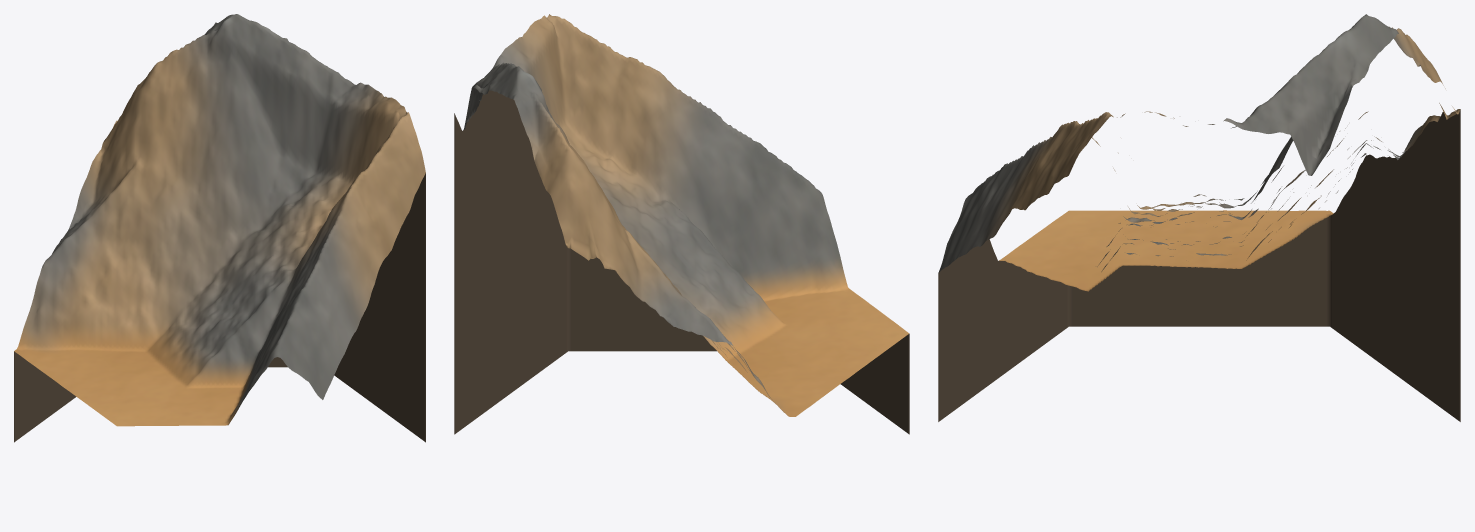
3 renders of one model, left to right at view 1: azimuth 30°, elevation 25°; view 2: azimuth 150°, elevation 25°; view 3: azimuth 270°, elevation 25°, orthographic. The views are drawn at different scales.
Visible parts, largest first — view 1: terrain, hex_side_cut; view 2: terrain, hex_side_cut; view 3: hex_side_cut, terrain.
Boxes of the visible parts, <box> form: terrain: <box>14,14,425,426</box>; hex_side_cut: <box>14,173,425,442</box>; terrain: <box>463,14,908,416</box>; hex_side_cut: <box>454,90,909,434</box>; hex_side_cut: <box>938,110,1460,421</box>; terrain: <box>938,14,1460,291</box>.
Size of the model in its own units: 4330 by 4832 by 5000.
